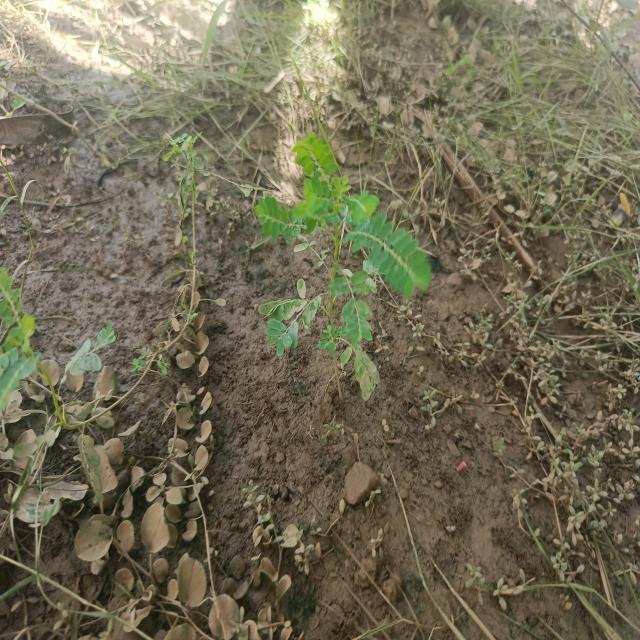weed: (253, 137, 435, 359), (0, 257, 49, 403)
